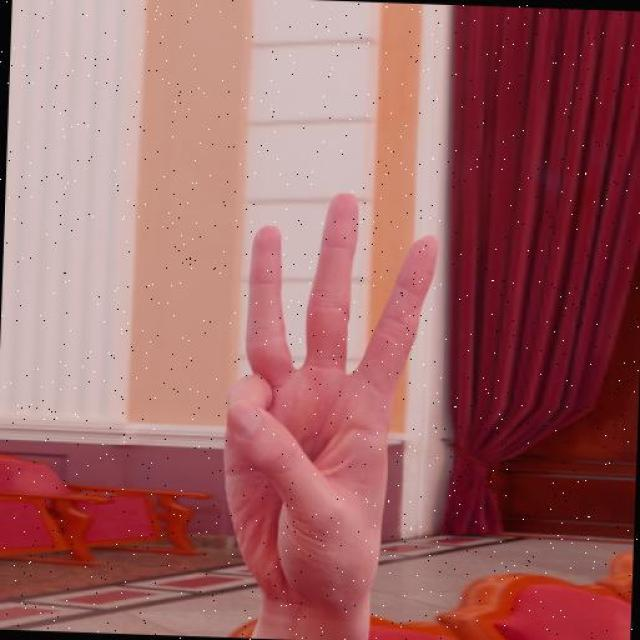W: (190, 171, 452, 640)
